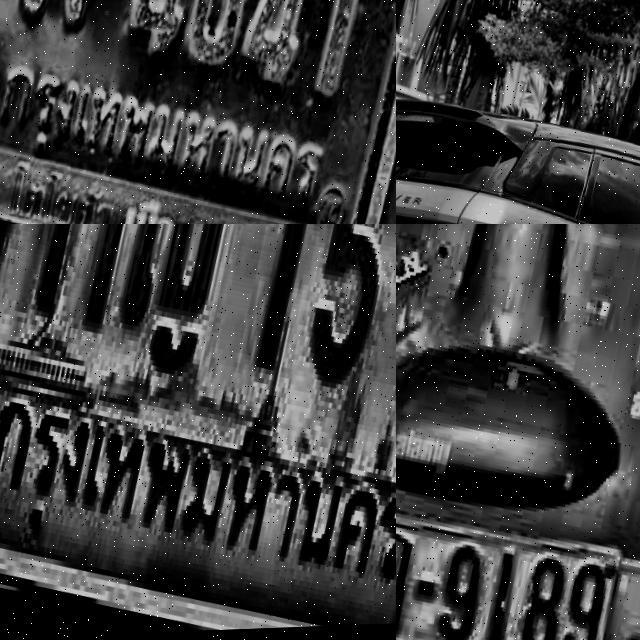license-plate: (0, 224, 396, 640), (0, 0, 396, 224), (396, 450, 640, 640)
